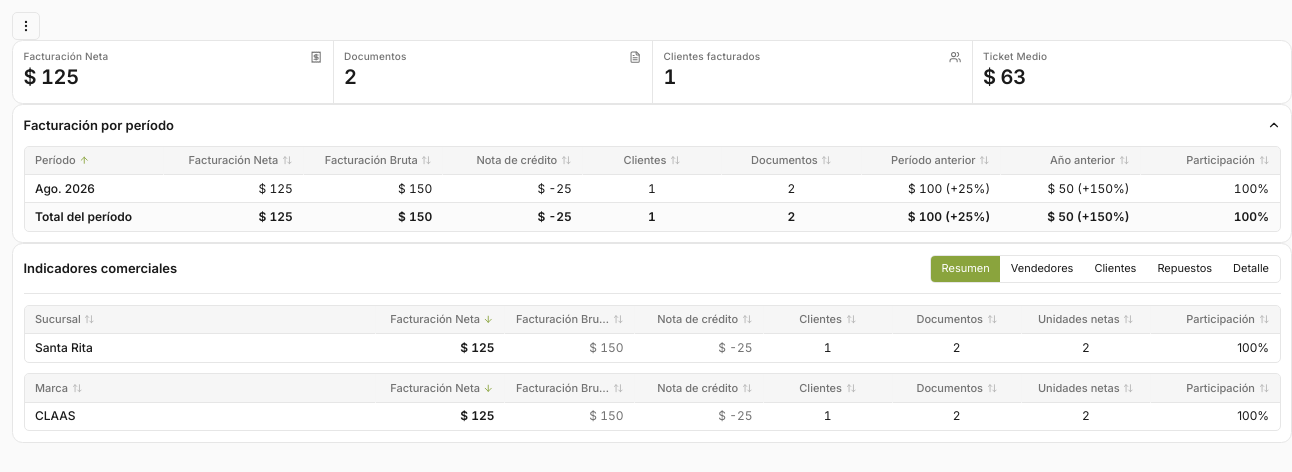
Scenario: Ventas de Repuestos › aplica Marca y Vendedor antes de panorama, listados paginados y exportación
Later steps or results of the test are not shown.
Expected: the text "CLAAS" is shown, [24, 402, 376, 430]
Click the button "Detalle": (1251, 268) [1223, 256, 1280, 282]
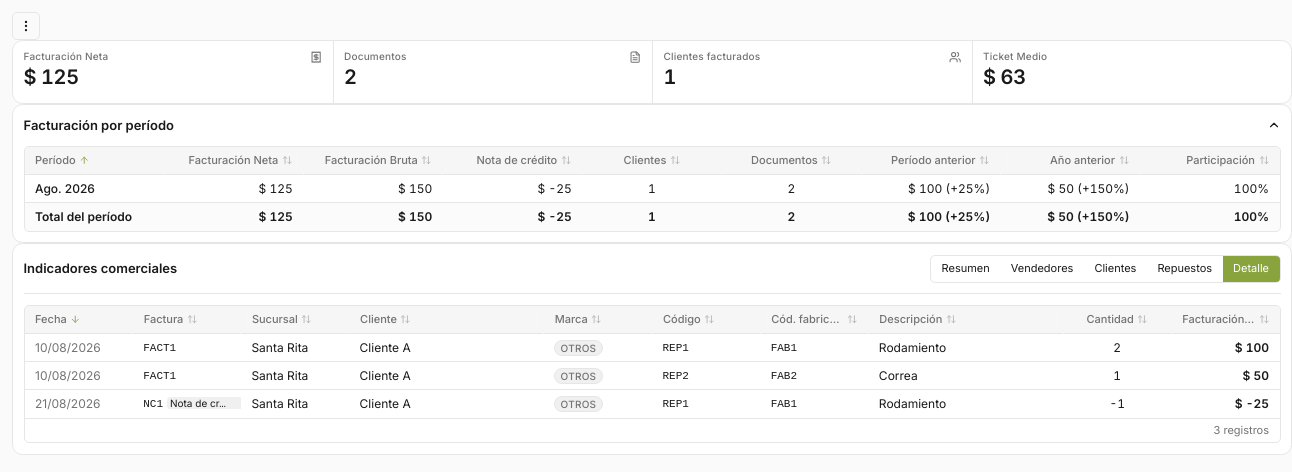
Expected: the text "REP2" is shown, [652, 362, 760, 390]
